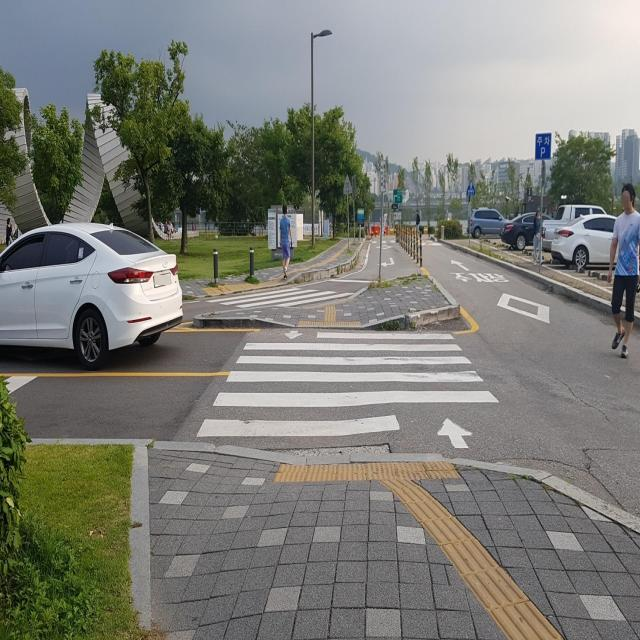횡단보도: (195, 328, 501, 453), (206, 289, 356, 309)
